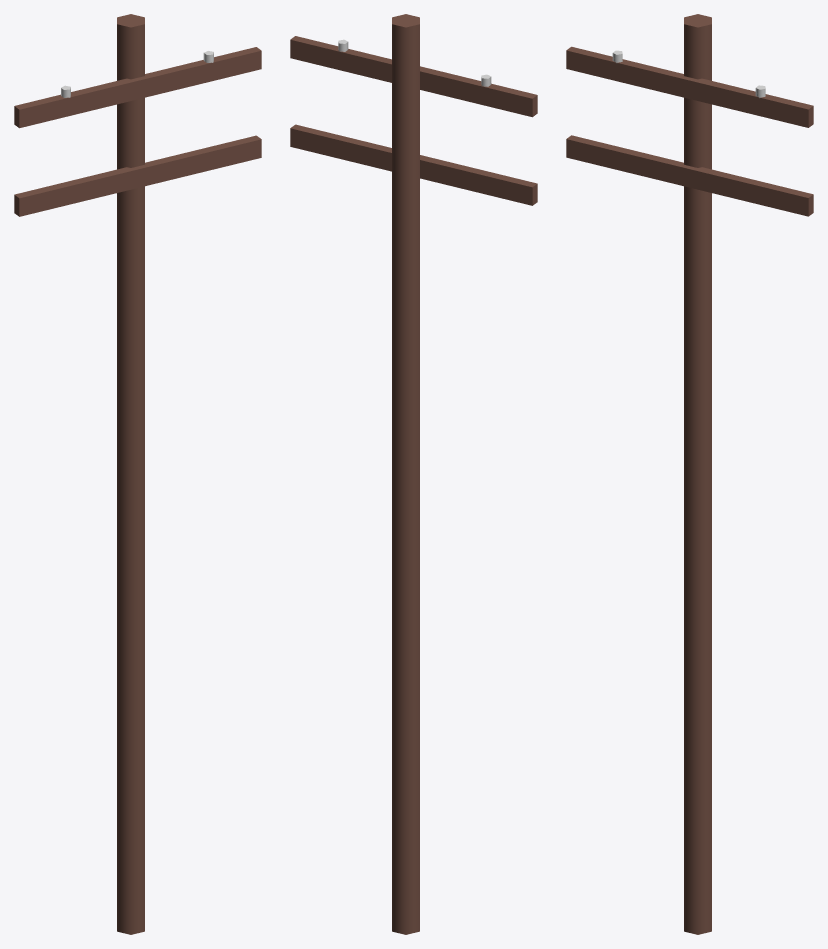
Rendered from Electric_pole.FBX.
The picture shows the model from 3 angles, left to right: view 1: azimuth 30°, elevation 25°; view 2: azimuth 150°, elevation 25°; view 3: azimuth 330°, elevation 25°; orthographic projection.
Visible parts, largest first — view 1: Electric_pole; view 2: Electric_pole; view 3: Electric_pole.
Part boxes in pixels (x1,y1,x2,y2): Electric_pole: (14,14,261,934); Electric_pole: (290,14,537,934); Electric_pole: (566,14,813,934).
Size of the model in its own units: 189 by 676 by 23.22.
